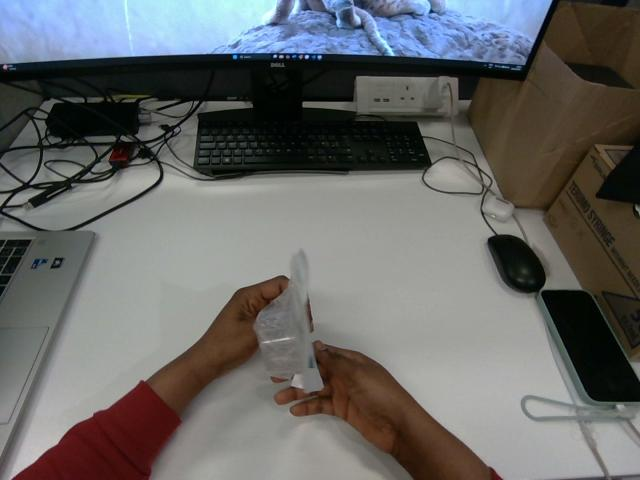gallipot: (254, 250, 310, 379)
